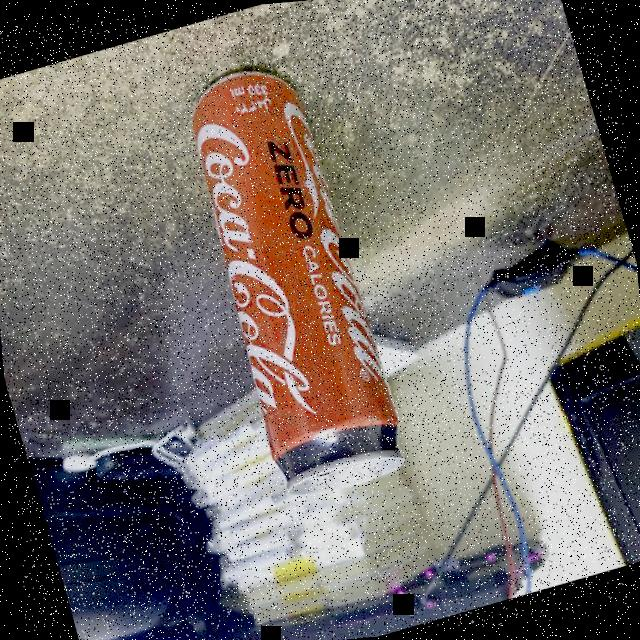can: (182, 53, 408, 507)
